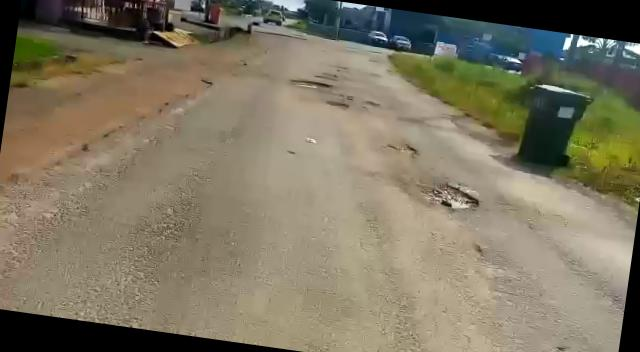pothole: (414, 176, 486, 218), (382, 141, 423, 158), (292, 76, 335, 90), (324, 98, 351, 111)
